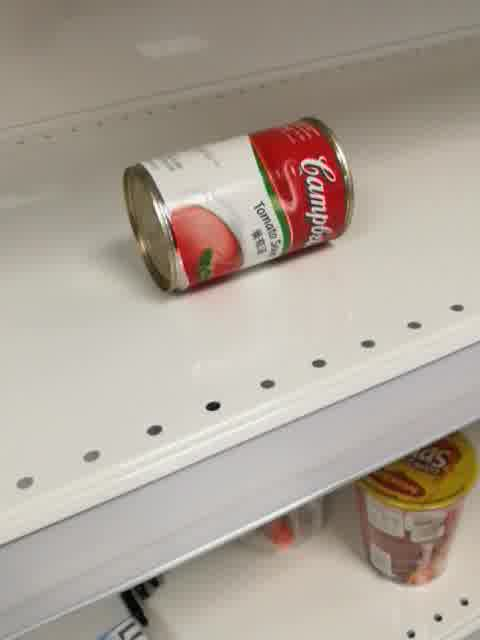tomatosoup: (119, 114, 355, 297)
